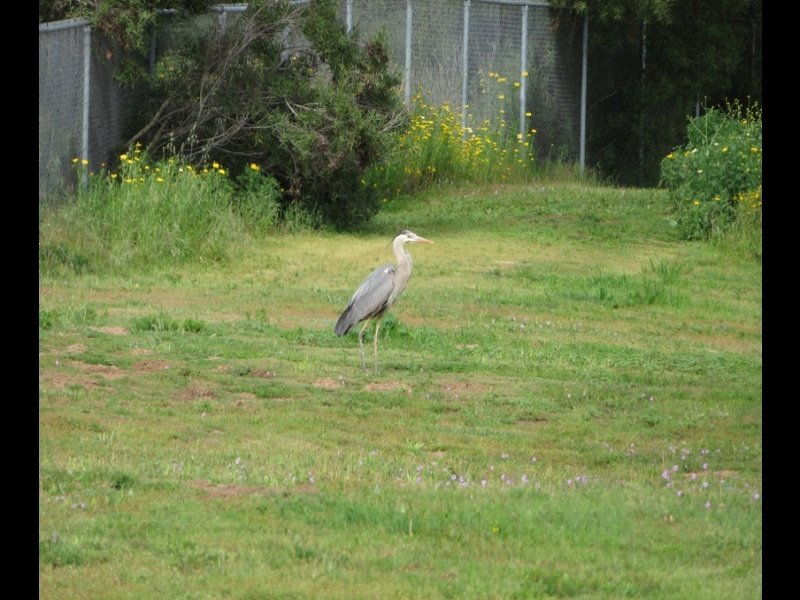heron: (334, 226, 434, 347)
